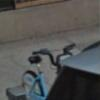bicycles: (21, 41, 76, 100)
